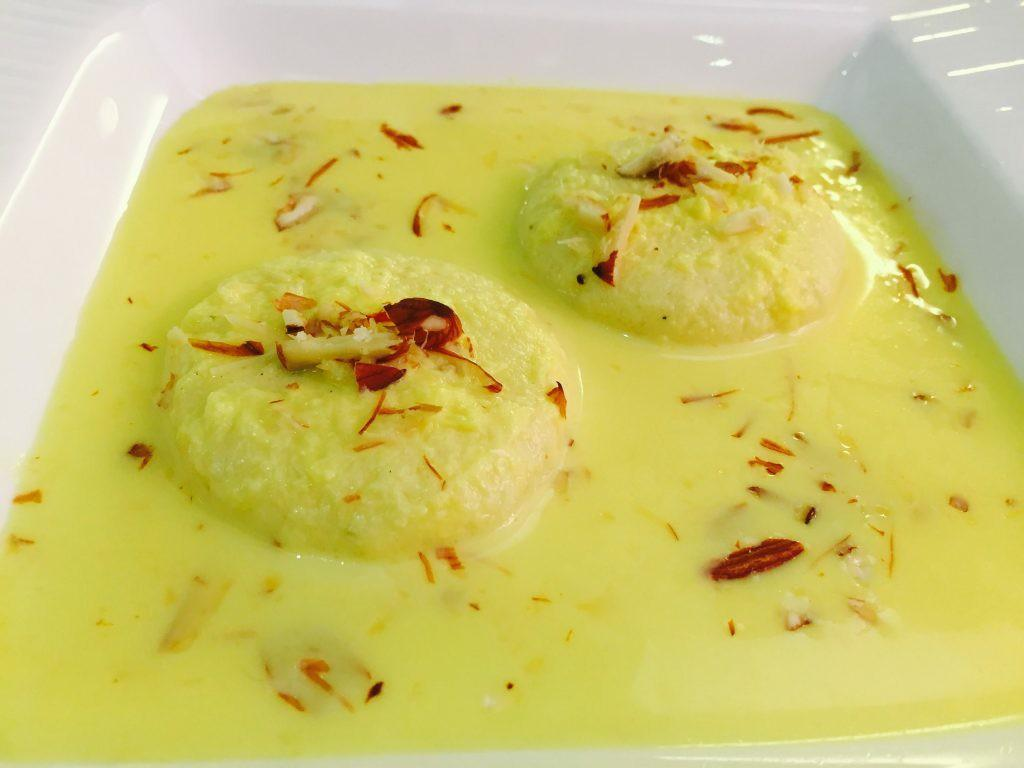RasMalai: (0, 78, 1024, 768)
